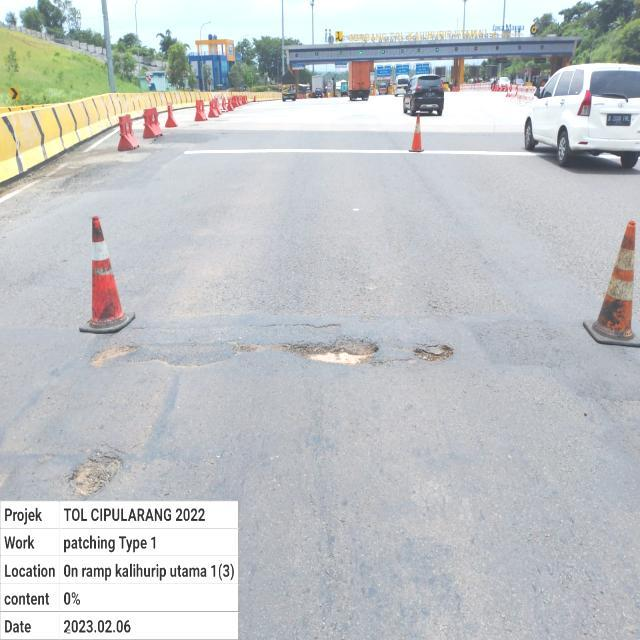Buraco: (222, 334, 383, 369), (66, 448, 126, 502), (86, 341, 144, 371), (409, 342, 458, 366)
